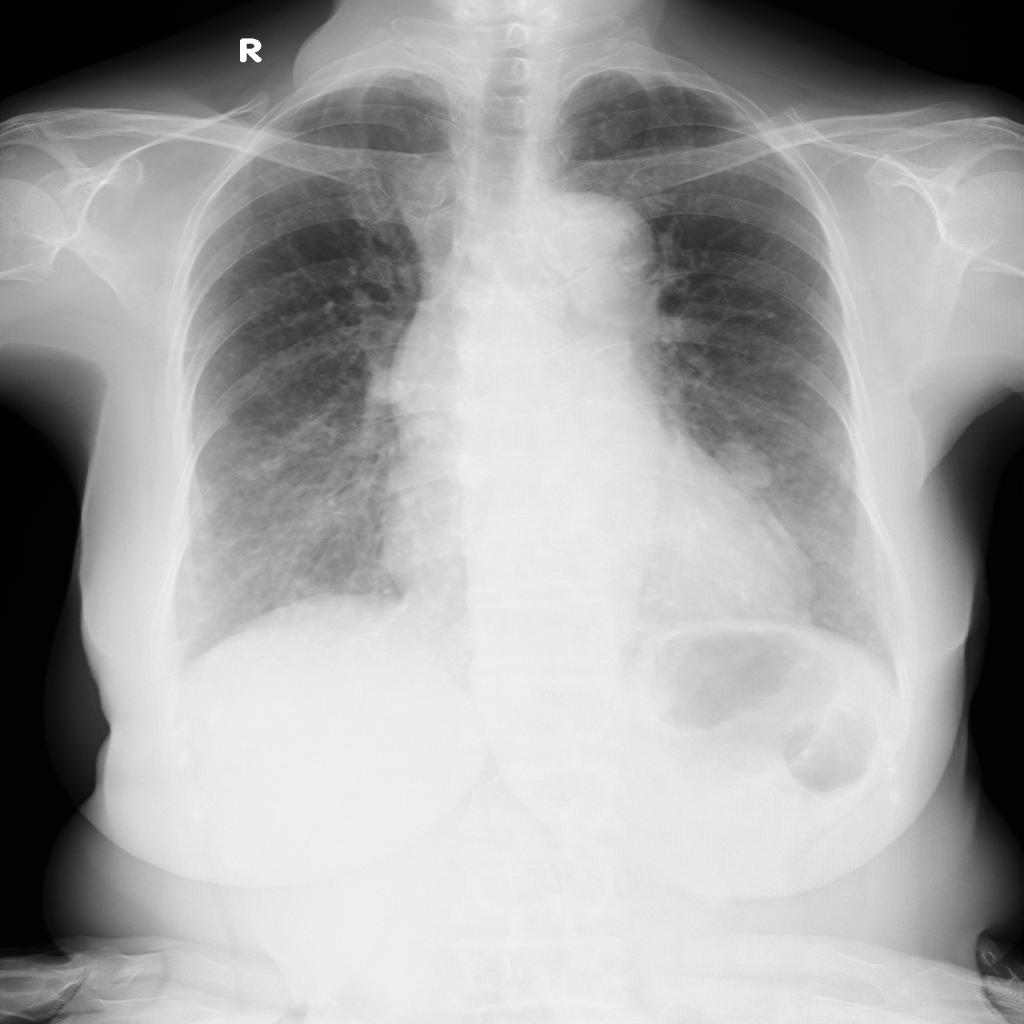Nodule: (713, 440, 777, 487)
